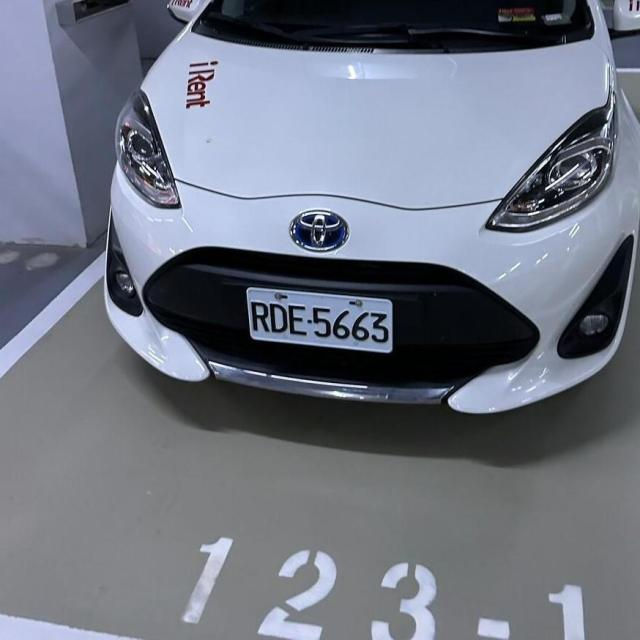W: (244, 286, 397, 353)
